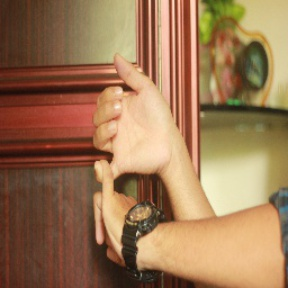S: (85, 49, 173, 277)
